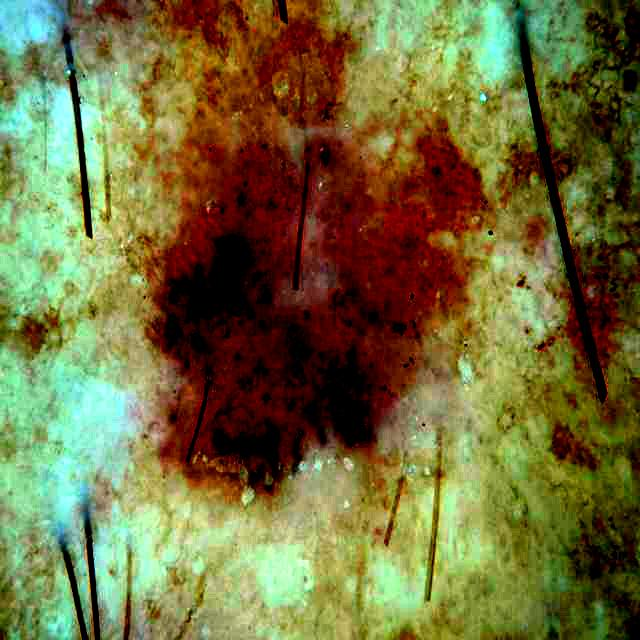BCC: (163, 100, 476, 486)
